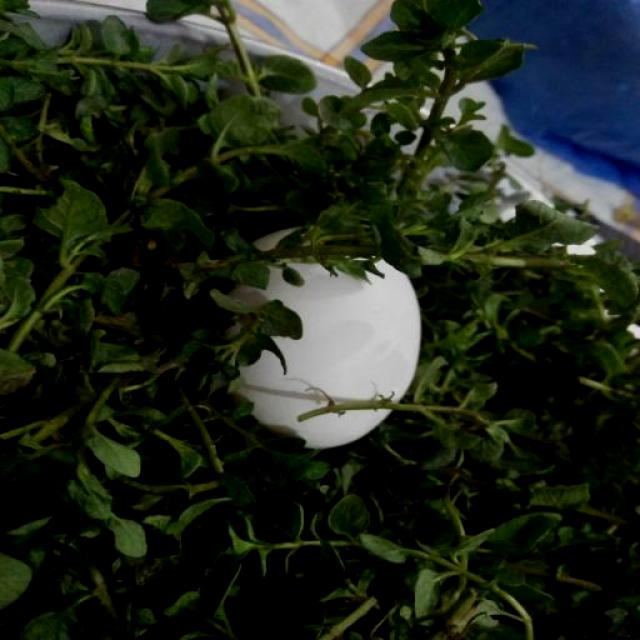telur: (206, 207, 428, 460)
